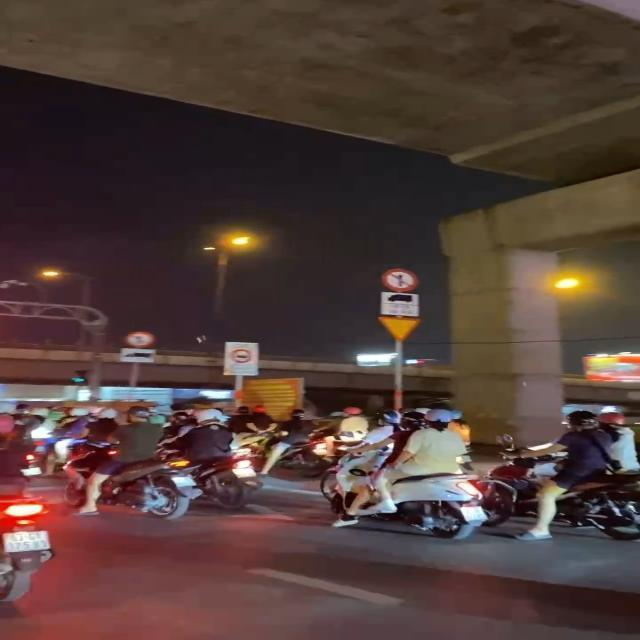136-cam-di-thang: (382, 268, 420, 290), (123, 331, 157, 347)
208-giao-nhau-voi-duong-uu-tien: (376, 316, 422, 340)
